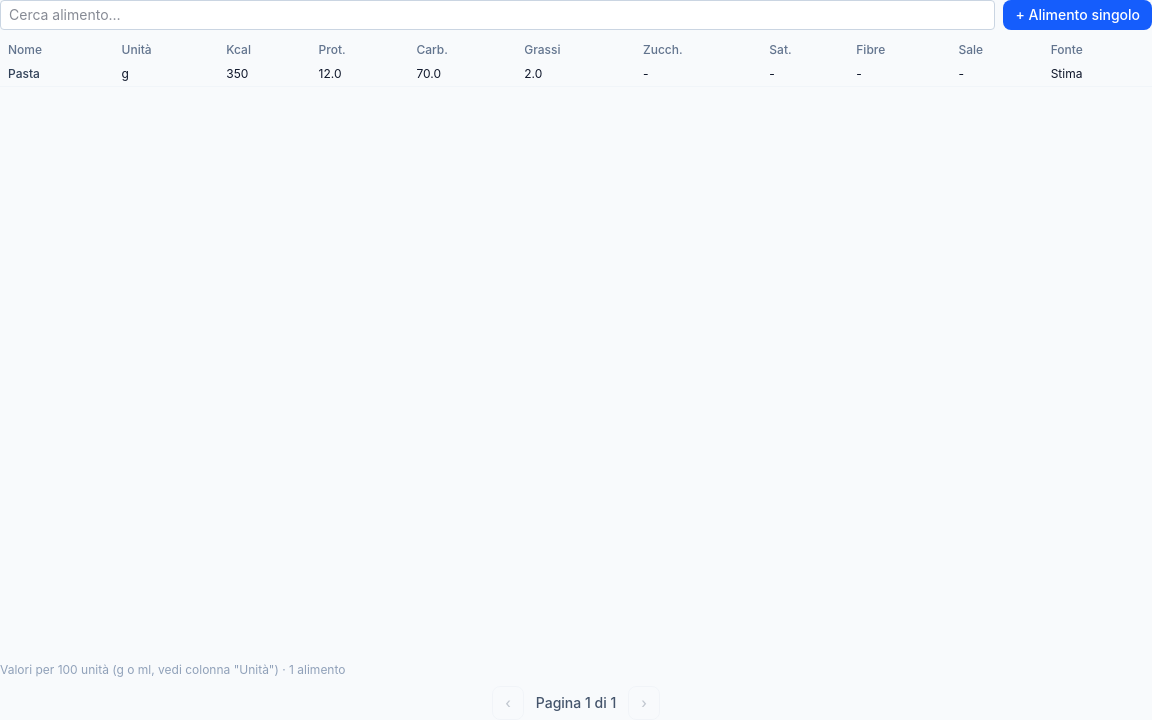
it: LibroAlimentiPanel › LibroAlimentiPanel_anteprimaConElimina_mostraAvvisoSenzaChiedereConfermaNeChiamareEliminaAlimento
This screenshot has width=1152, height=720.
Click the text "Pasta" at (24, 74), box [0,62,114,86]
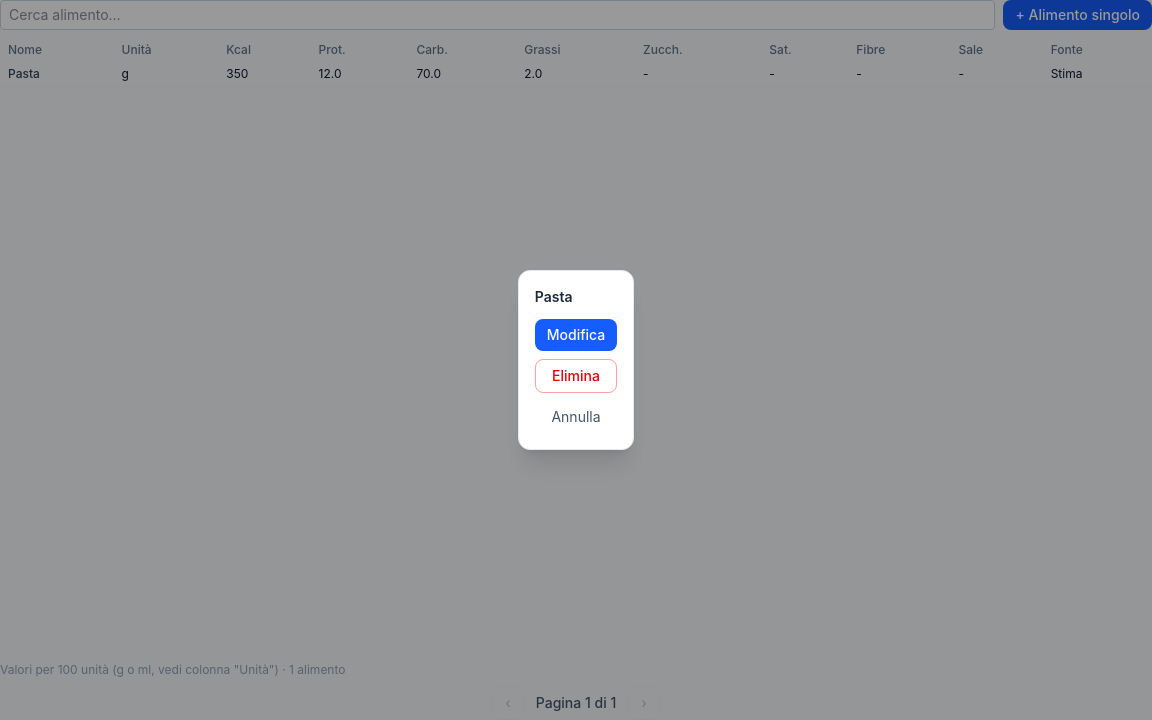
Click the button "Elimina" at (576, 376), box [535,359,617,393]
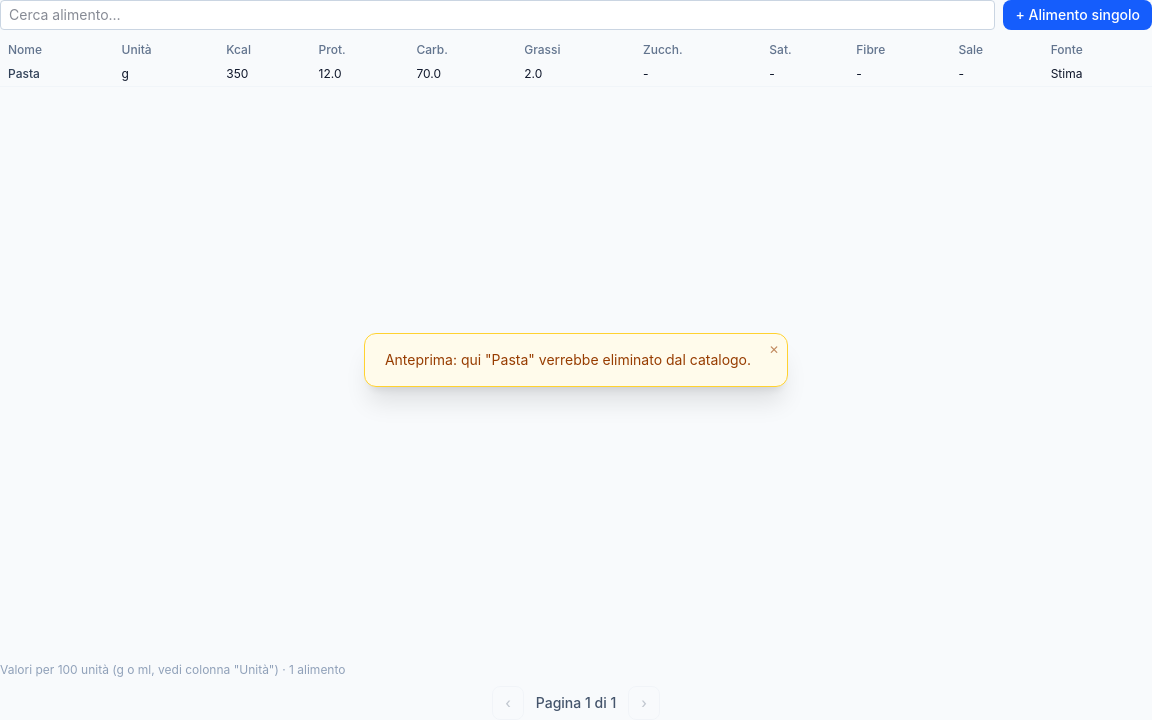
Result: the button "Anteprima: qui \"Pasta\" verrebbe eliminato dal catalogo. ✕" is shown at [364,333,788,387]
